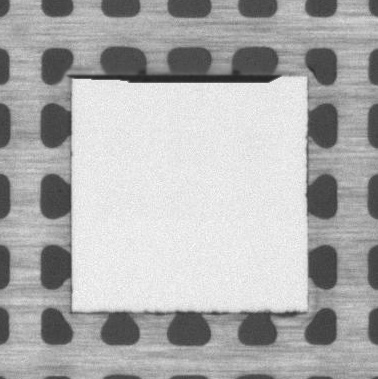DIE_BROKEN: (68, 69, 283, 84)
